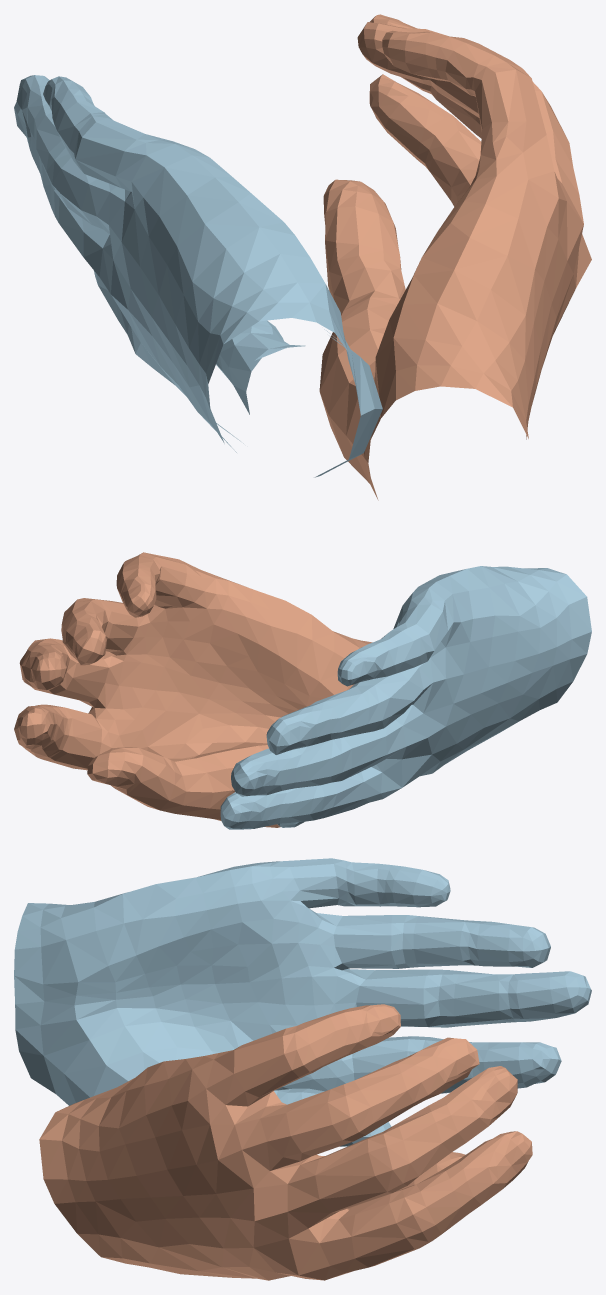
Rendered from frame_061.glb.
3 views of the same model, one above another, from view 1: azimuth 30°, elevation 25°; view 2: azimuth 150°, elevation 25°; view 3: azimuth 270°, elevation 25° (orthographic). The views are drawn at different scales.
Parts seen in each view (by area): view 1: world; view 2: world; view 3: world.
Part boxes in pixels (x1,y1,x2,y2): world: (14, 14, 591, 500); world: (14, 552, 591, 829); world: (14, 858, 591, 1280).
Bounding box in the file's own units: 0.156 × 0.1033 × 0.1713.
